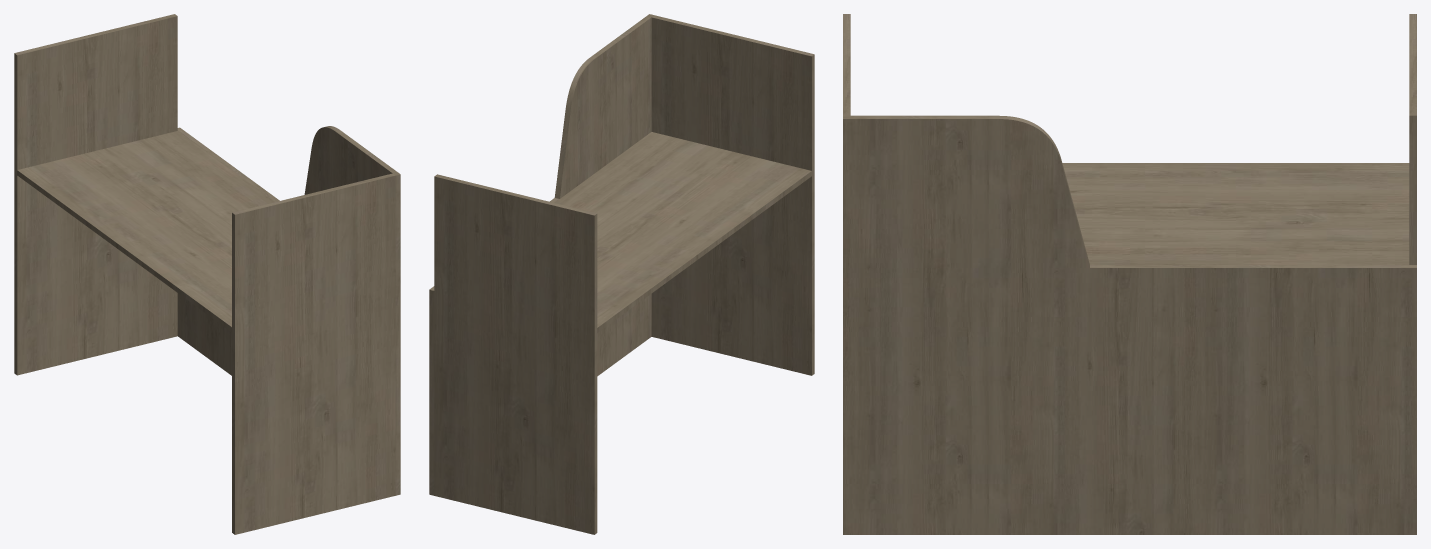
File: res15.glb
3 renders of one model, left to right at view 1: azimuth 30°, elevation 25°; view 2: azimuth 150°, elevation 25°; view 3: azimuth 270°, elevation 25°, orthographic. The views are drawn at different scales.
Visible parts, largest first — view 1: Box042, Box043, Box044, Box041; view 2: Box043, Box042, Box044, Box041; view 3: Box041, Box044, Box043, Box042.
Part boxes in pixels (x1,y1,x2,y2): Box042: (232,173,395,534); Box043: (14,14,177,375); Box044: (17,131,274,332); Box041: (177,126,400,495); Box043: (434,174,597,534); Box042: (651,15,814,375); Box044: (555,132,811,332); Box041: (429,14,654,495); Box041: (843,115,1416,534); Box044: (1062,163,1409,264); Box043: (1409,14,1416,264); Box042: (843,14,850,115).
Bounding box in the file's own units: 0.65 × 1.2 × 1.5.
Materials: 1 (1 with a texture image).
